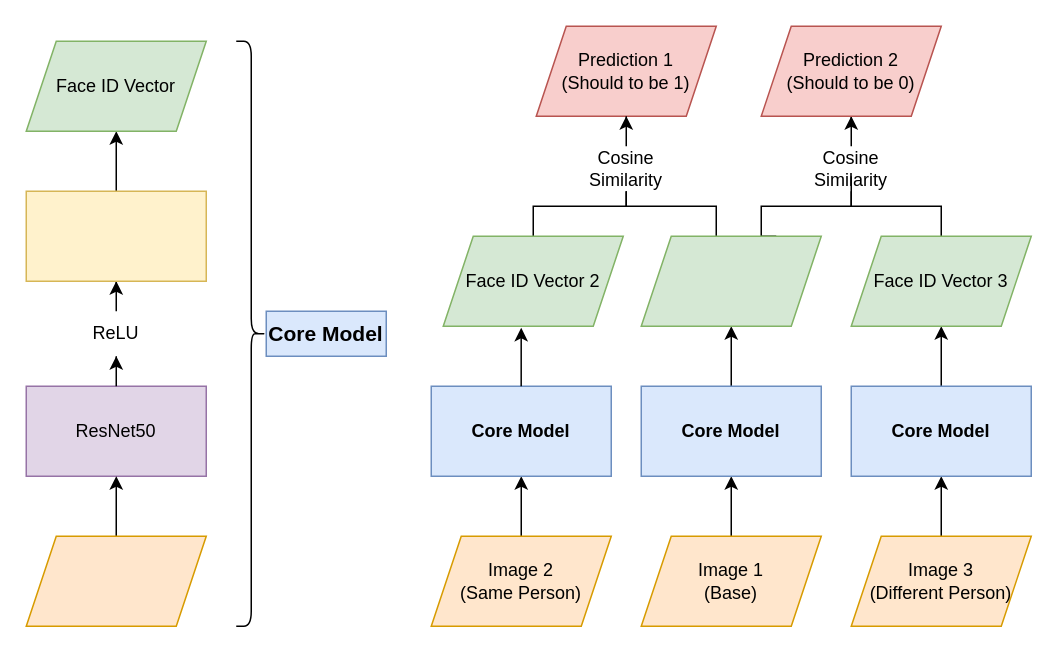
The diagram is 1058 pixels wide and 653 high, and some of its shapes have lost their labels. The centre of each missing label's shape, as x and y in pixels:
"Face ID Vector 1" goes at (x=730, y=280).
"Face Image" goes at (x=115, y=580).
"Linear Layer" goes at (x=115, y=235).
